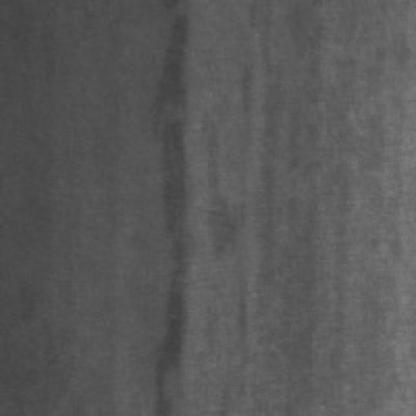inclusion: (141, 2, 237, 408)
